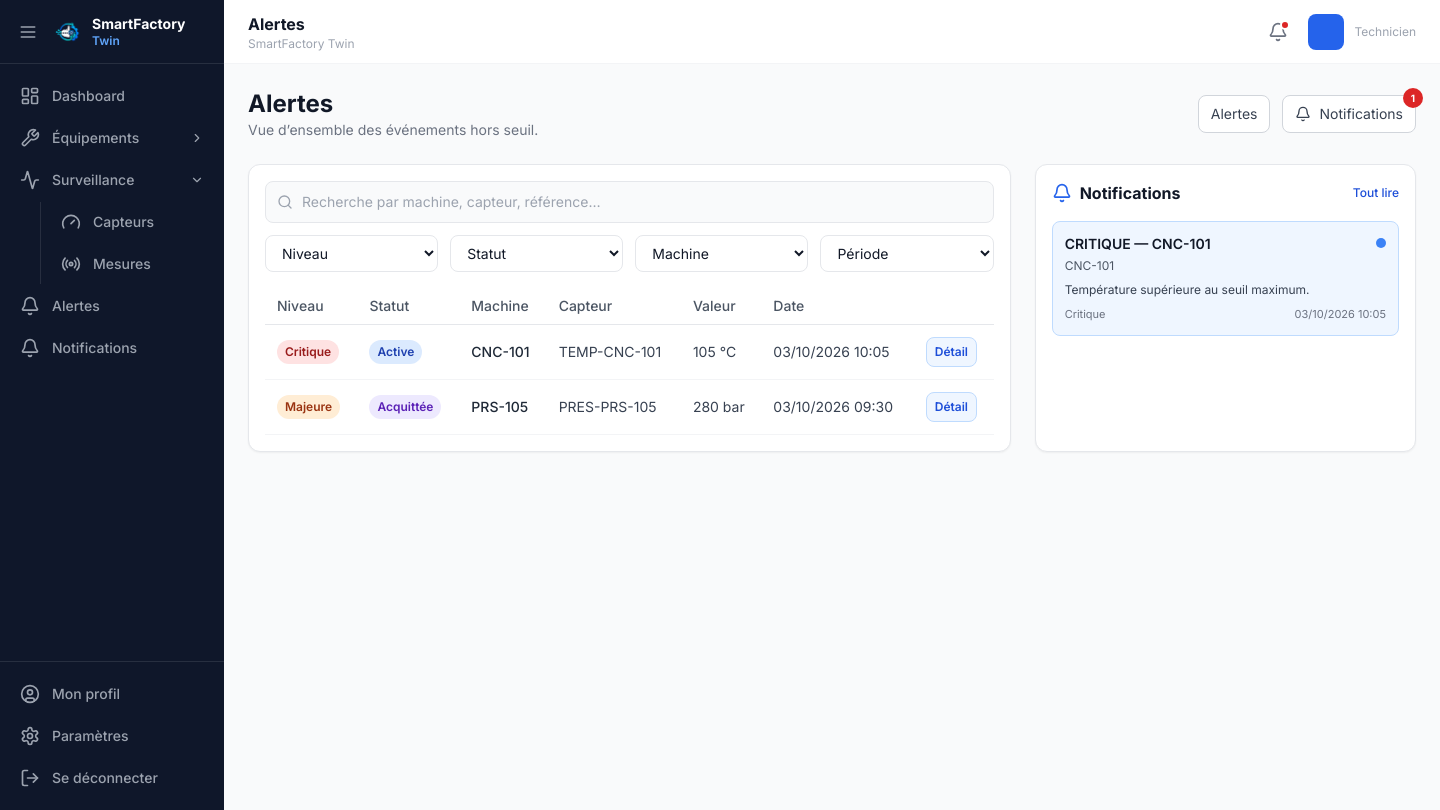
it: AlertesPage › ne propose pas l’acquittement d’une alerte déjà acquittée
Click the button "Détail" in the row of "Majeure" at x=951, y=407, box [926,392,977,422]
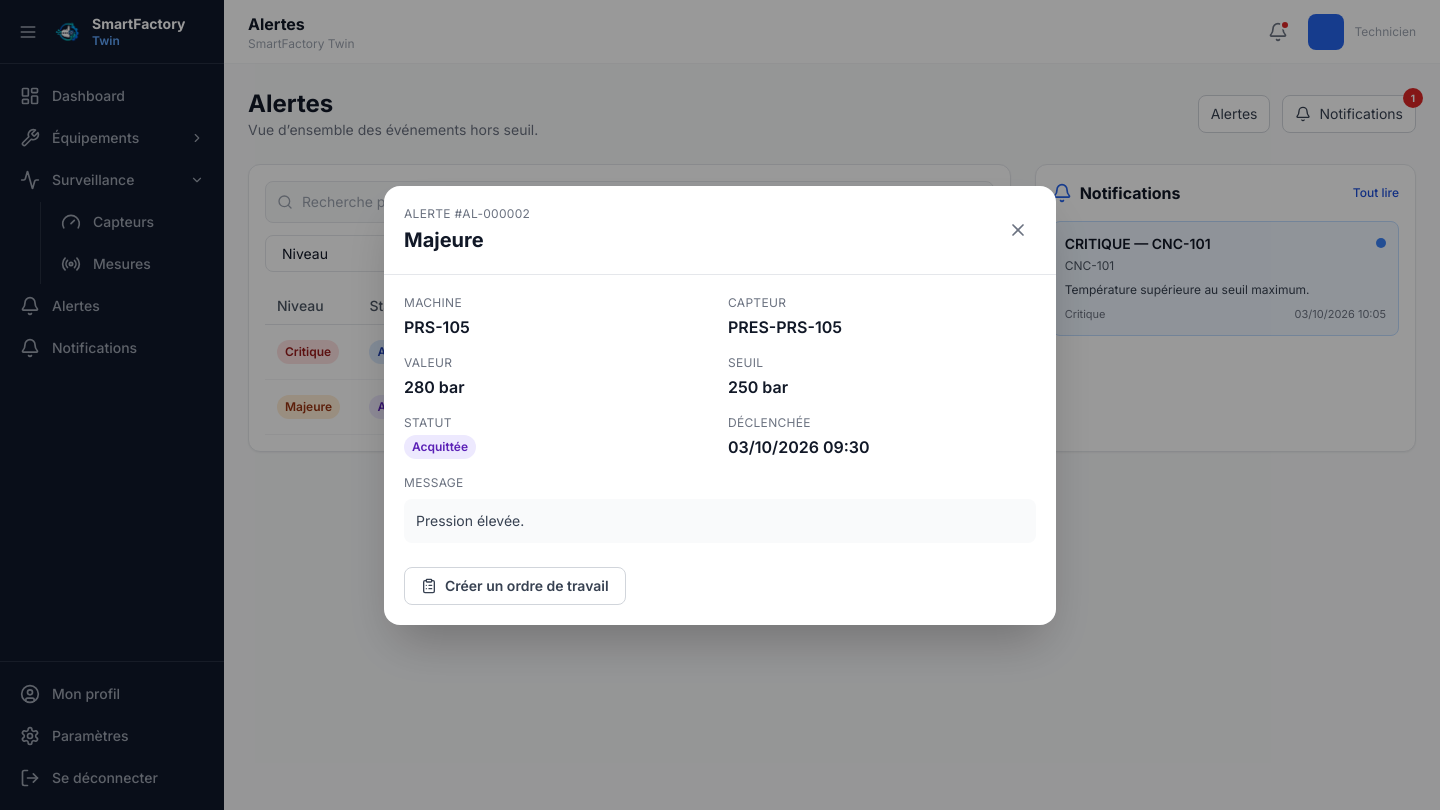
Expected: the text "Alerte #AL-000002" is shown, [404,206,530,222]
